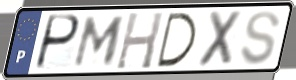D: (155, 11, 199, 69)
H: (114, 10, 166, 71)
M: (71, 15, 128, 70)
P: (32, 13, 82, 72)
S: (238, 9, 282, 68)
X: (195, 8, 245, 69)
